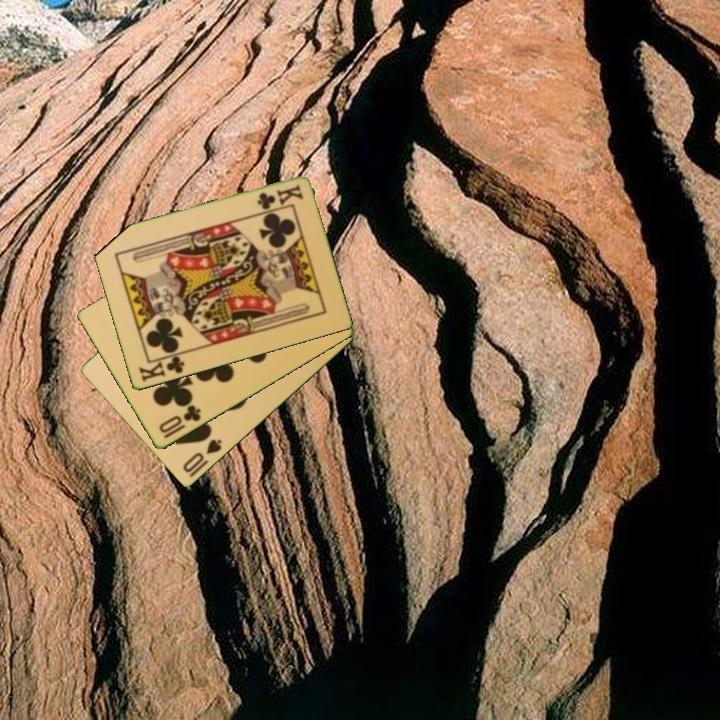10c: (155, 401, 204, 442)
10s: (179, 436, 225, 476)
Kc: (135, 350, 187, 385), (253, 181, 306, 213)
